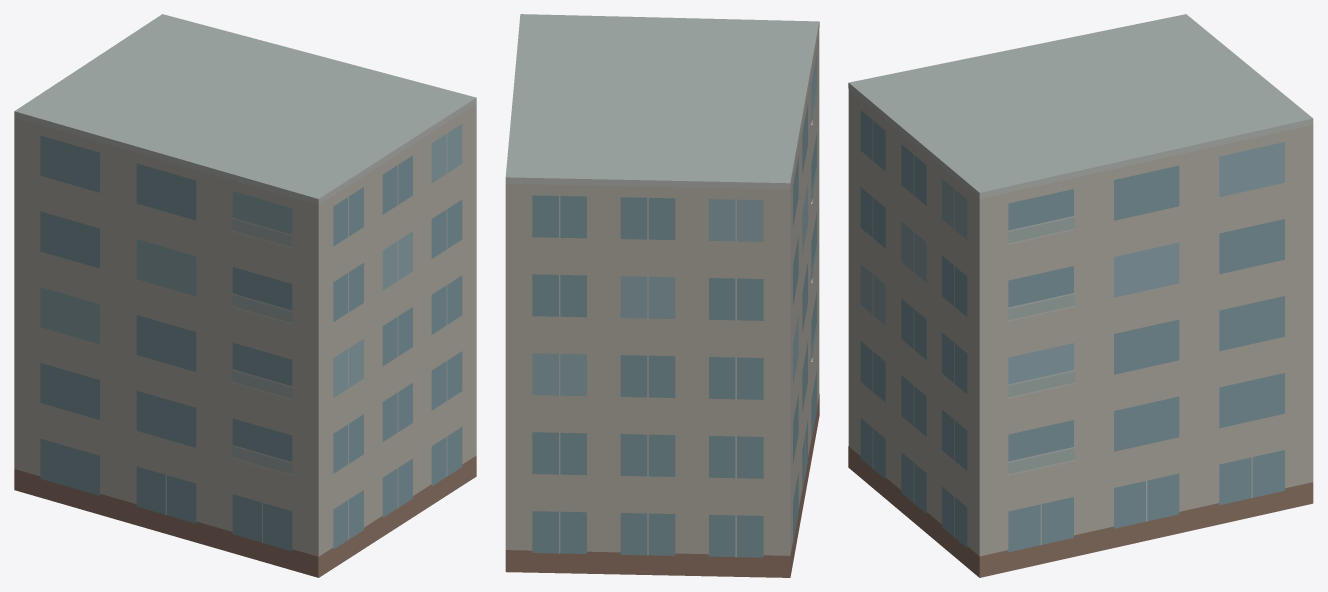
The model's file is survey-upis-32837030.glb.
3 views of the same model, side by side, from view 1: azimuth 30°, elevation 25°; view 2: azimuth 150°, elevation 25°; view 3: azimuth 270°, elevation 25° (orthographic). The views are drawn at different scales.
Parts seen in each view (by area): view 1: survey-upis-32837030.tmp; view 2: survey-upis-32837030.tmp; view 3: survey-upis-32837030.tmp.
Part boxes in pixels (bbox=[...]): survey-upis-32837030.tmp: bbox=[14, 14, 476, 577]; survey-upis-32837030.tmp: bbox=[505, 14, 819, 577]; survey-upis-32837030.tmp: bbox=[848, 14, 1313, 577].
Bounding box in the file's own units: 15.21 × 15.25 × 16.7.
